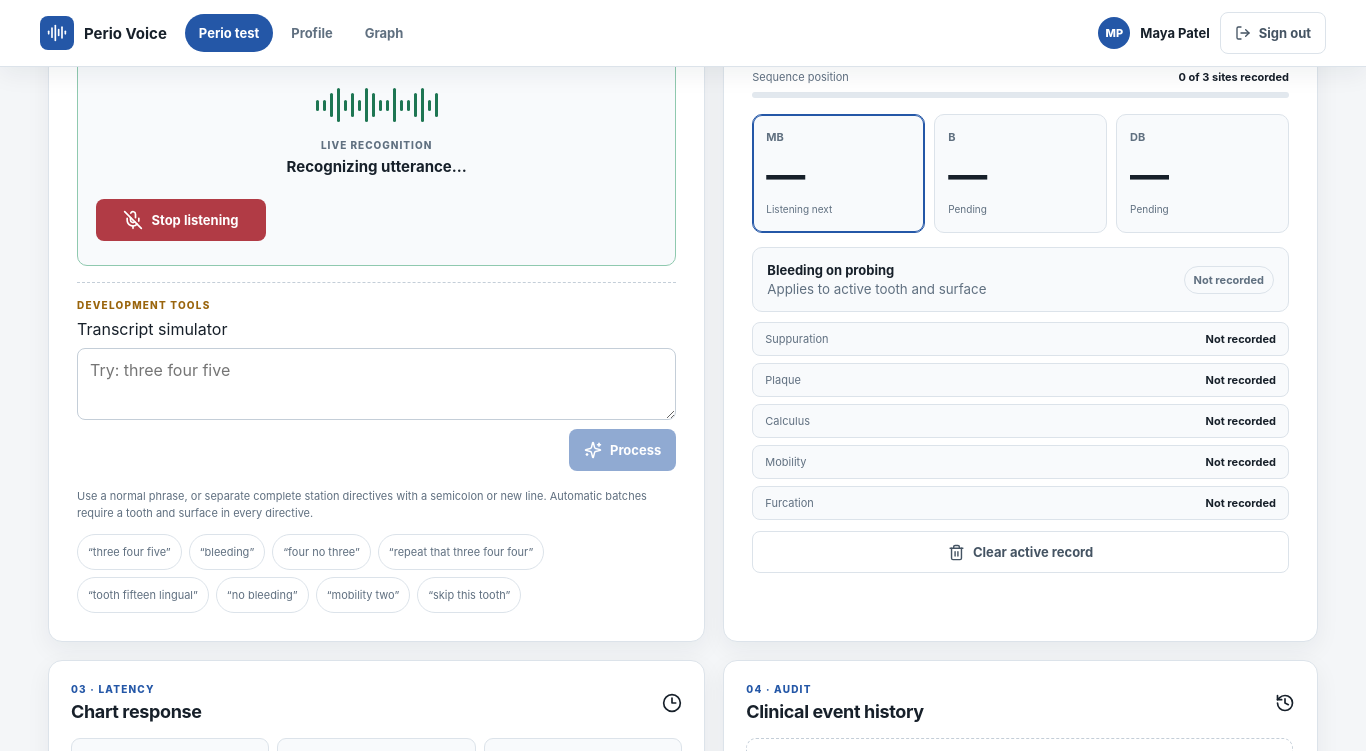
Test case: automatic chart UI › explains the strict batch contract through the labelled simulator and safely processes it
This screenshot has width=1366, height=751.
(page scrolled)
Expected: the text "automatic batches require a tooth and surface in every directive" is shown, [77,490,647,520]
Type "tooth fourteen buccal three four five; tooth fifteen lingual two three four" into the text box labelled "Transcript simulator" at (377, 384), box [77,348,676,420]
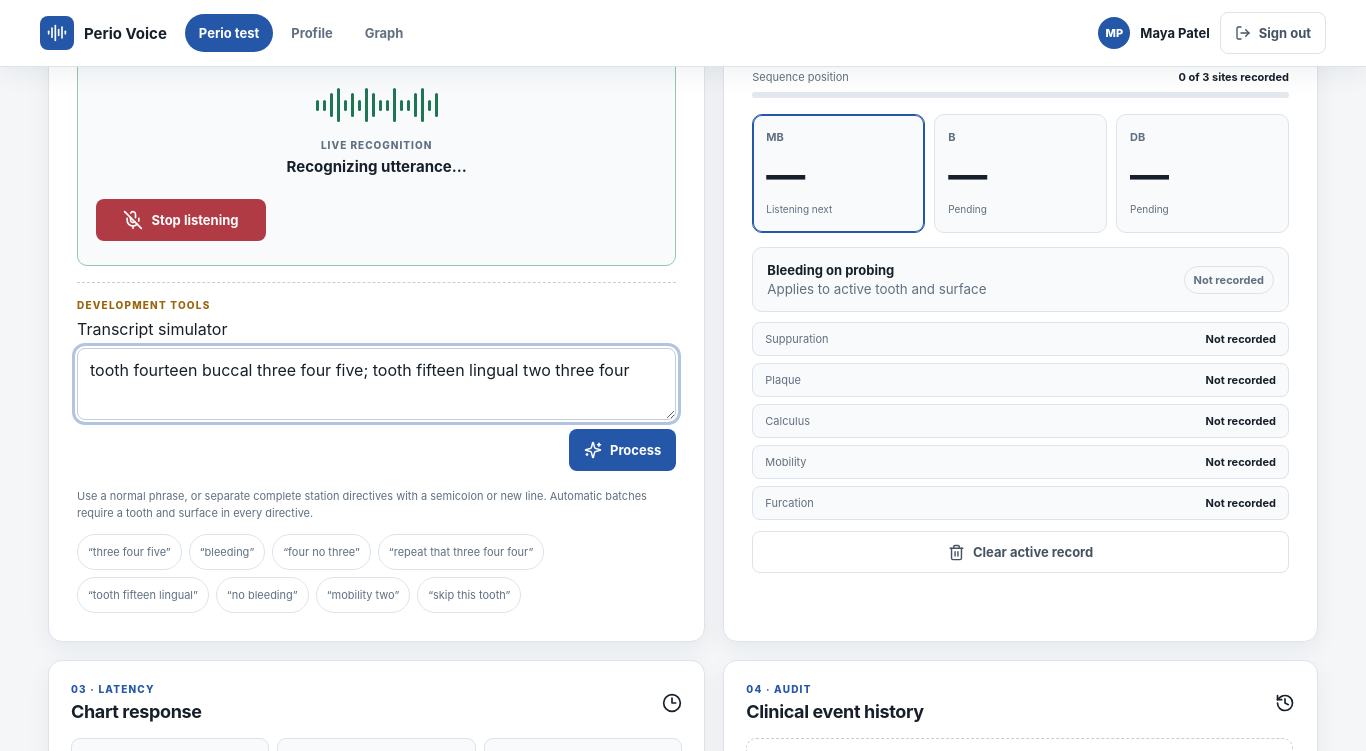
Click the button "Process" at (623, 450), box [569,430,676,472]
(page scrolled)
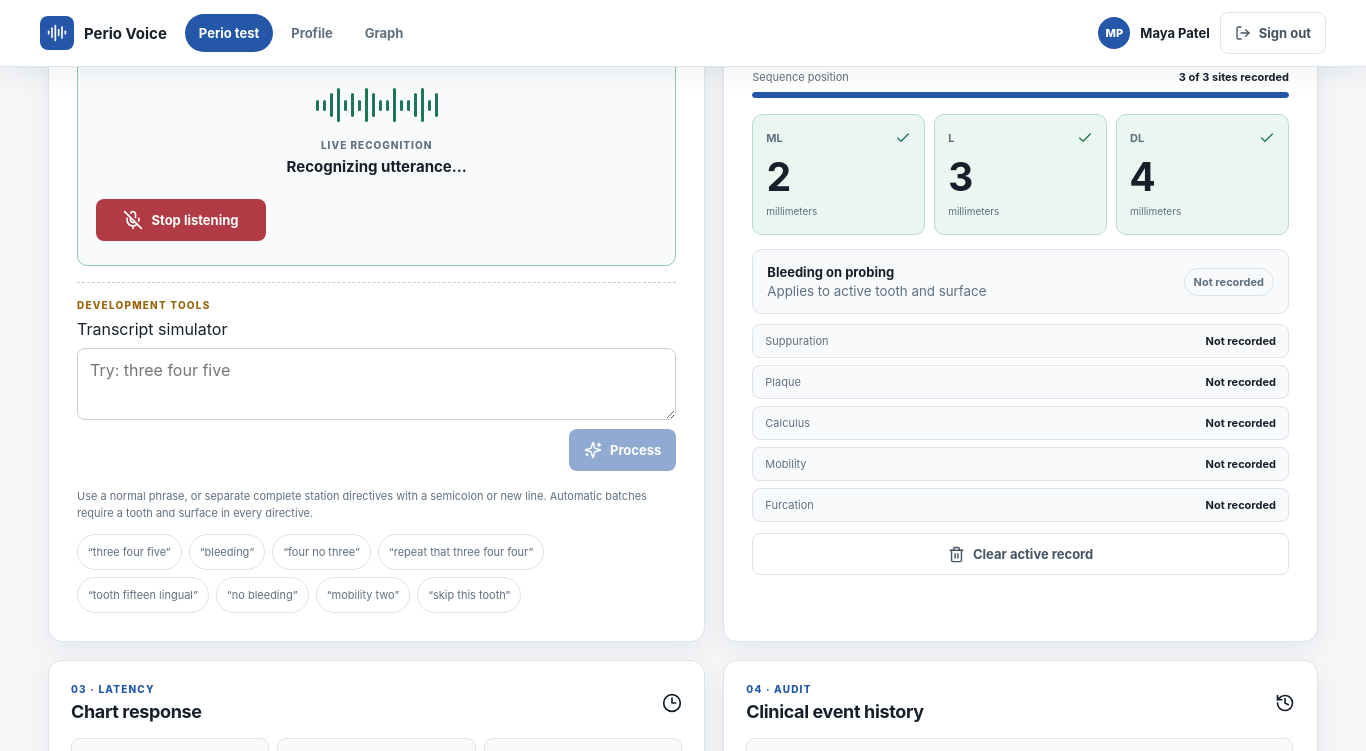
Result: the text named "ML probing depth 2" is shown at [766,154,792,200]
Result: the text named "L probing depth 3" is shown at [948,154,973,200]
Result: the text named "DL probing depth 4" is shown at [1130,154,1155,200]
